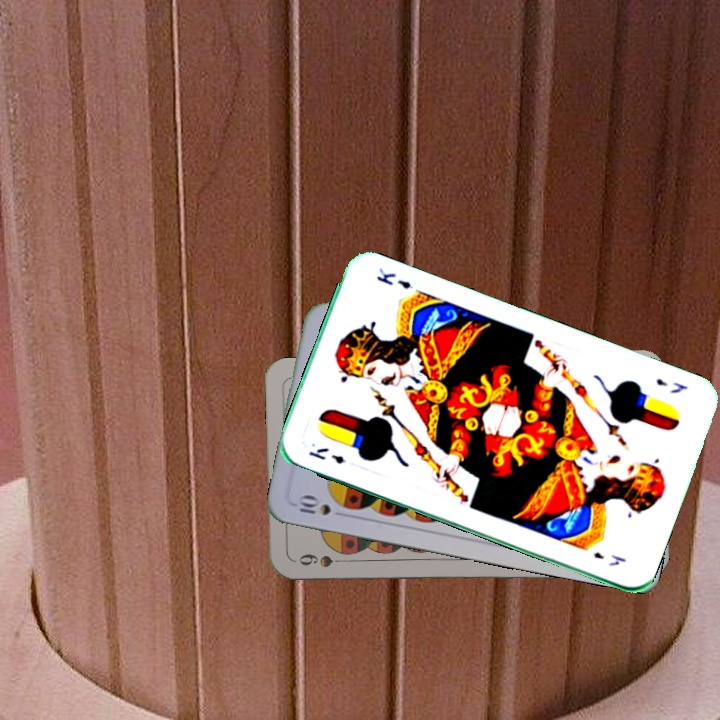EK: (305, 443, 348, 467), (651, 374, 690, 396)
S10: (292, 491, 350, 520)
S9: (294, 550, 353, 570)
